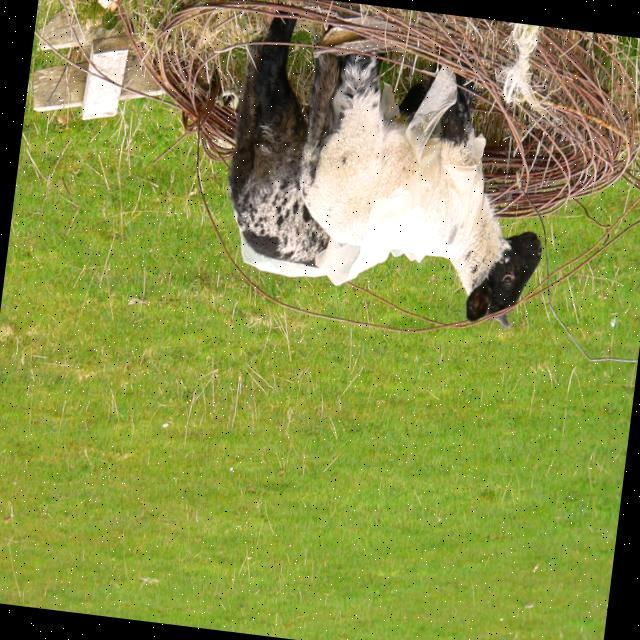sheep: (298, 55, 540, 325), (227, 16, 425, 266)
